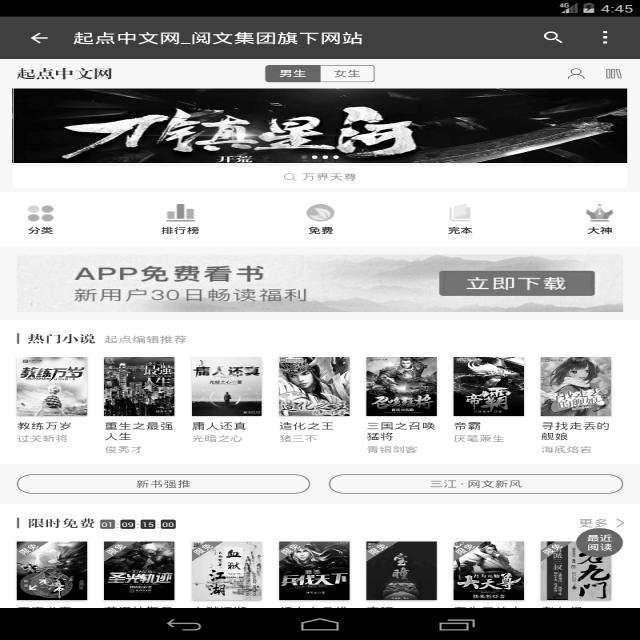Button: (11, 469, 317, 497), (326, 469, 630, 497), (433, 268, 599, 298)
ImageButton: (561, 62, 594, 85), (534, 28, 570, 46), (27, 28, 54, 49), (600, 64, 627, 85), (597, 29, 615, 47)
ImageView: (12, 89, 621, 161), (16, 540, 86, 600), (540, 539, 610, 599), (190, 540, 260, 599), (282, 357, 351, 415), (366, 540, 435, 598), (18, 353, 84, 413), (366, 357, 436, 412), (191, 357, 258, 412), (106, 359, 170, 414), (152, 200, 218, 224), (441, 196, 489, 224), (24, 200, 66, 224), (574, 200, 619, 222), (302, 200, 338, 223)
TextView: (69, 261, 311, 303), (66, 27, 368, 52), (11, 62, 119, 83), (15, 418, 78, 444), (362, 419, 436, 440), (538, 421, 612, 441), (191, 420, 249, 442)
